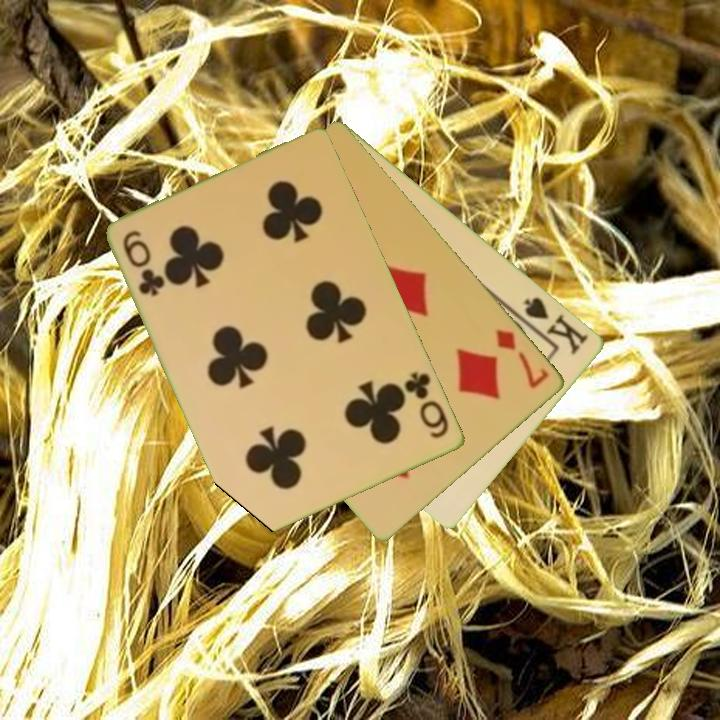6c: (401, 368, 452, 442), (120, 226, 167, 300)
7d: (493, 326, 552, 392)
Ks: (513, 293, 592, 358)
